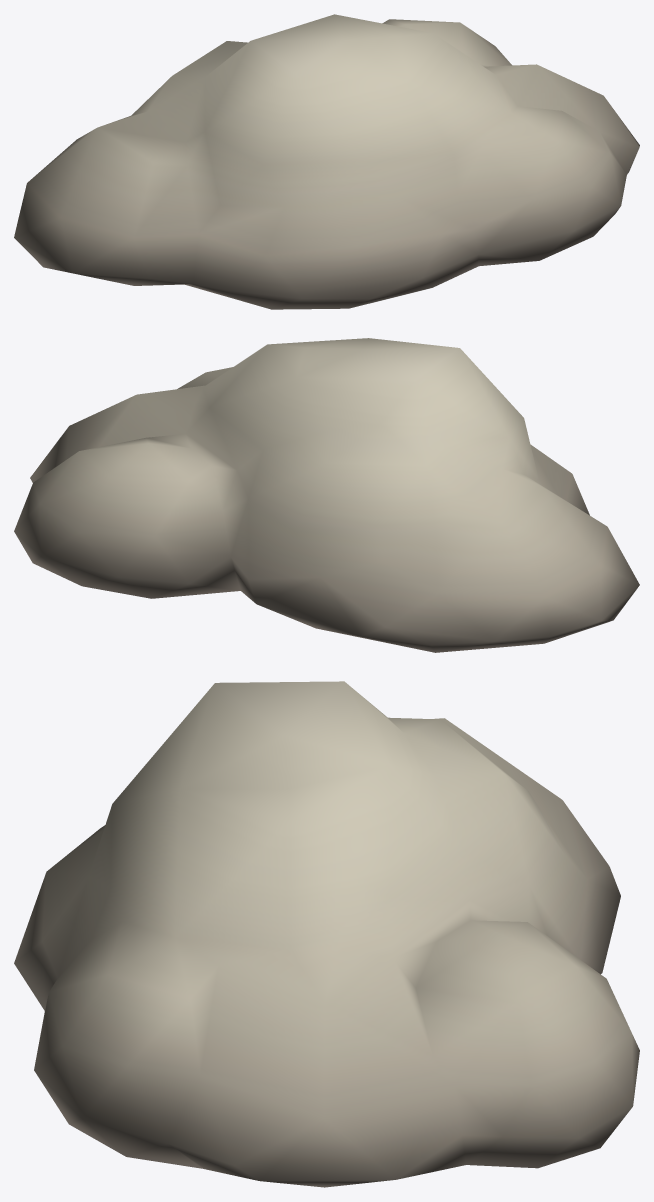
Rendered from SM_Cloud_02.fbx.
3 renders of one model, top to bottom at view 1: azimuth 30°, elevation 25°; view 2: azimuth 150°, elevation 25°; view 3: azimuth 270°, elevation 25°, orthographic. The views are drawn at different scales.
Parts seen in each view (by area): view 1: SM_Cloud_02; view 2: SM_Cloud_02; view 3: SM_Cloud_02.
Part boxes in pixels (<box>): SM_Cloud_02: <box>14,14,639,309</box>; SM_Cloud_02: <box>14,338,639,652</box>; SM_Cloud_02: <box>14,681,639,1187</box>.
Bounding box in the file's own units: 6.68 × 2.32 × 4.4.
